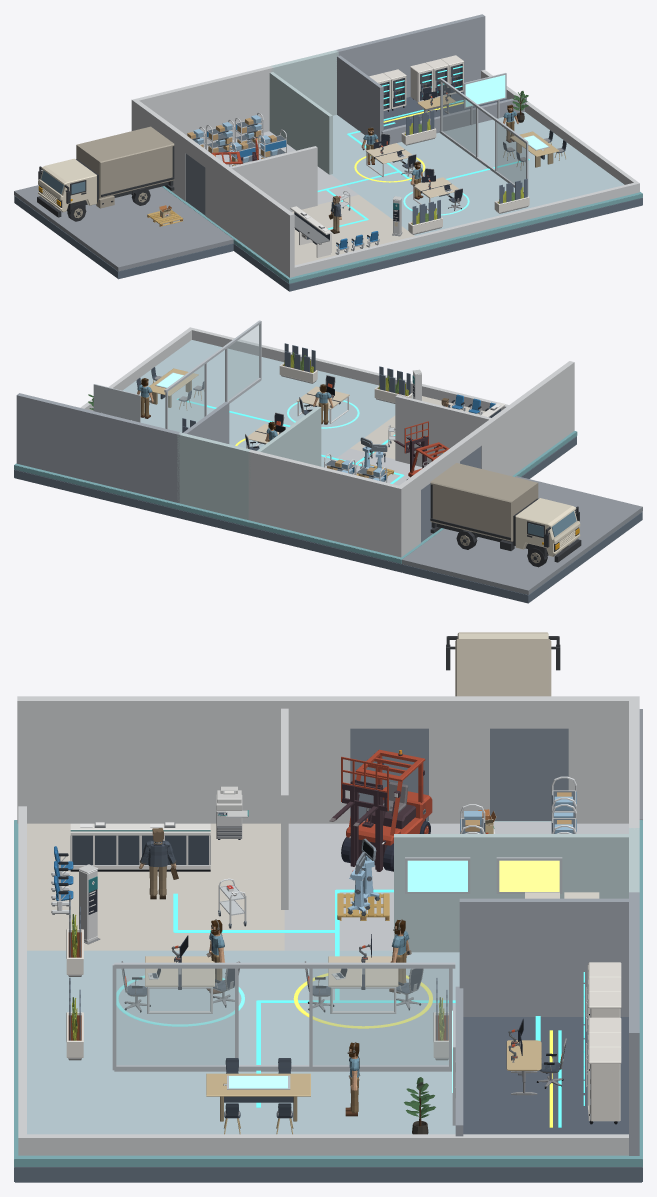
The model's file is alpha_medical_ops_map.glb.
3 renders of one model, top to bottom at view 1: azimuth 30°, elevation 25°; view 2: azimuth 150°, elevation 25°; view 3: azimuth 270°, elevation 25°, orthographic. The views are drawn at different scales.
Visible parts, largest first — view 1: Apron_Surface, Floor_OpsCommand, delivery-truck, Floor_ApprovalPod, Wall_Back_Warehouse, Wall_Back_Server, Wall_Left_Intake, Cutaway_Lip_South, Part_WH_Ops, Base_Plinth_Lower, Part_WH_Intake, Floor_OrderIntake (+30 smaller); view 2: Wall_Back_Server, Wall_Back_Warehouse, delivery-truck, Apron_Surface, Floor_OpsCommand, Floor_ApprovalPod, Wall_Left_Intake, Wall_Back_Hall, Base_Plinth_Lower, Part_WH_Intake, Base_Plinth_Trim, Cutaway_Lip_South (+20 smaller); view 3: Floor_OpsCommand, Wall_Left_Intake, Floor_ApprovalPod, Floor_OrderIntake, Part_Srv_West, Floor_ServerCore, Cutaway_Lip_East, Part_WH_Ops, Approval_Glass_N, Approval_Glass_S, Floor_Warehouse, Base_Plinth_Trim (+36 smaller).
Boxes of the visible parts, x1,y1,x2,y2 form: Apron_Surface: [14, 185, 233, 271]; Floor_OpsCommand: [331, 132, 539, 235]; delivery-truck: [37, 126, 174, 217]; Floor_ApprovalPod: [444, 112, 624, 205]; Wall_Back_Warehouse: [131, 66, 273, 146]; Wall_Back_Server: [336, 14, 485, 97]; Wall_Left_Intake: [220, 164, 294, 277]; Cutaway_Lip_South: [294, 182, 639, 276]; Part_WH_Ops: [269, 72, 332, 174]; Base_Plinth_Lower: [233, 197, 642, 291]; Part_WH_Intake: [230, 146, 317, 211]; Floor_OrderIntake: [292, 195, 414, 265]; Wall_Back_Server: [16, 393, 181, 502]; Wall_Back_Warehouse: [248, 449, 404, 557]; delivery-truck: [430, 463, 581, 562]; Apron_Surface: [402, 476, 642, 594]; Floor_OpsCommand: [229, 366, 412, 467]; Floor_ApprovalPod: [123, 340, 283, 432]; Wall_Left_Intake: [494, 361, 574, 476]; Wall_Back_Hall: [177, 432, 250, 519]; Base_Plinth_Lower: [14, 436, 576, 572]; Part_WH_Intake: [395, 395, 490, 466]; Base_Plinth_Trim: [14, 431, 577, 563]; Cutaway_Lip_South: [189, 327, 508, 411]; Floor_OpsCommand: [27, 950, 459, 1070]; Wall_Left_Intake: [17, 696, 289, 823]; Floor_ApprovalPod: [27, 1070, 455, 1134]; Floor_OrderIntake: [27, 823, 284, 950]; Part_Srv_West: [459, 898, 628, 1016]; Floor_ServerCore: [463, 1017, 628, 1134]; Cutaway_Lip_East: [18, 1134, 628, 1155]; Part_WH_Ops: [394, 834, 628, 952]; Approval_Glass_N: [313, 969, 448, 1065]; Approval_Glass_S: [116, 969, 234, 1065]; Floor_Warehouse: [284, 821, 628, 950]; Base_Plinth_Trim: [14, 820, 642, 1166].
Bounding box in the file's own units: 24.5 × 3.75 × 14.4.
